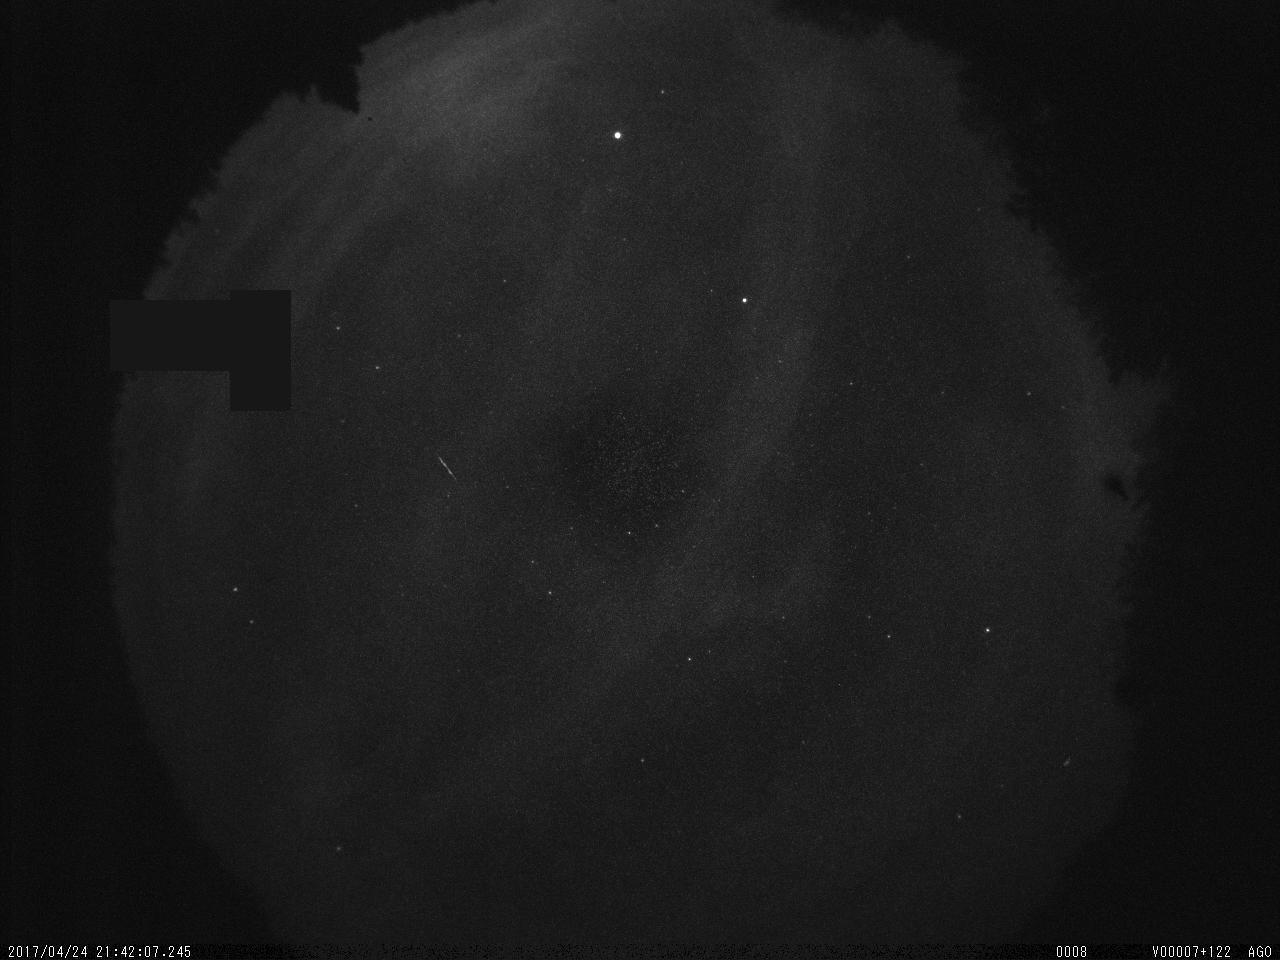meteor: (429, 449, 468, 487)
